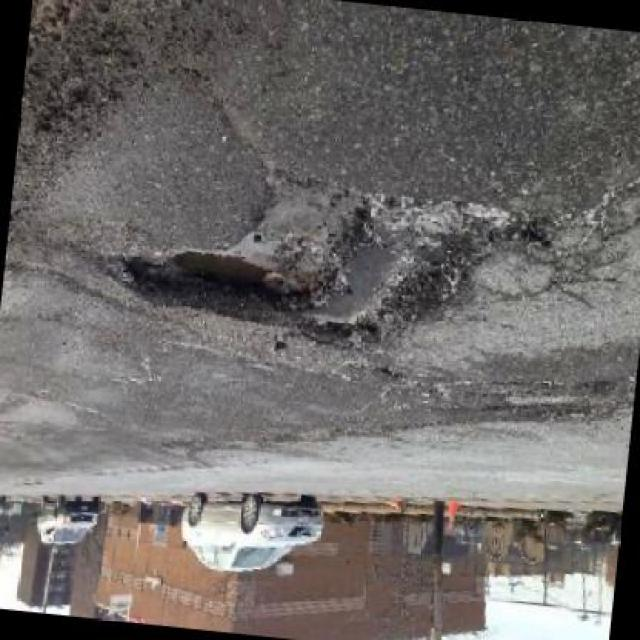pothole1: (115, 163, 512, 366), (484, 370, 591, 425)
